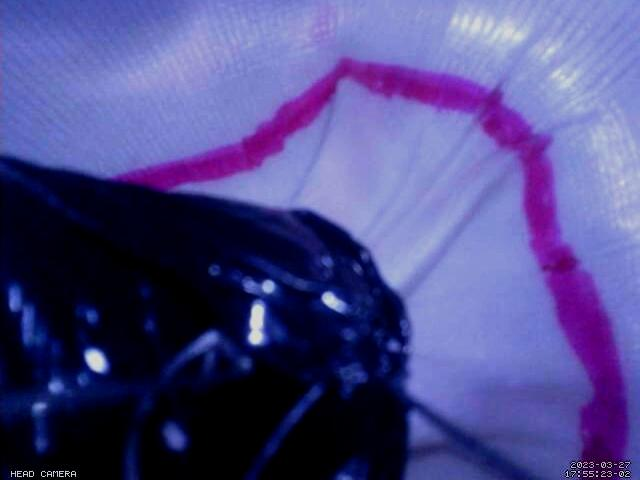red-circle: (105, 56, 631, 480)
